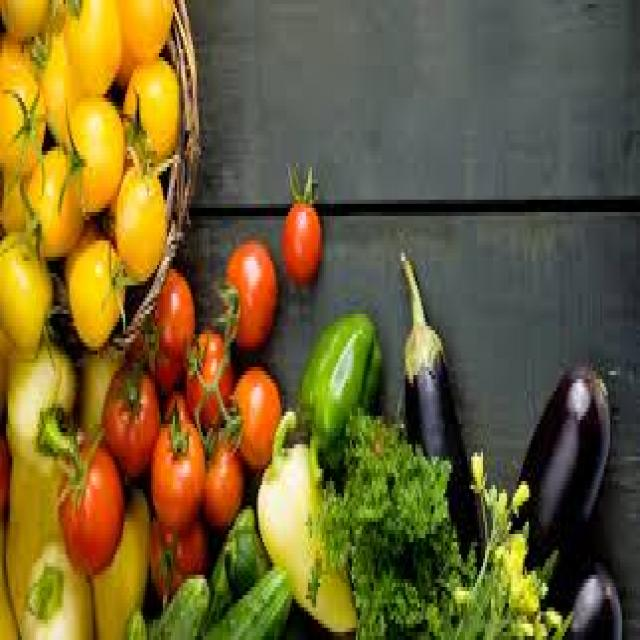organic waste: (302, 399, 473, 636), (397, 244, 483, 566), (446, 444, 572, 636), (507, 363, 608, 591), (254, 403, 356, 628), (298, 302, 382, 464), (90, 481, 149, 636), (56, 432, 121, 571), (4, 460, 60, 620), (4, 338, 74, 465), (14, 534, 89, 636), (131, 265, 193, 387), (119, 53, 185, 167), (0, 228, 54, 359), (38, 8, 89, 143), (149, 404, 203, 530), (539, 554, 620, 636), (101, 359, 159, 473), (64, 94, 121, 208), (62, 232, 121, 342), (203, 501, 254, 628), (203, 562, 290, 636), (115, 147, 165, 273), (22, 142, 77, 256), (217, 240, 274, 346), (227, 363, 278, 465), (0, 62, 44, 180), (282, 159, 322, 285), (147, 510, 203, 599), (64, 0, 119, 90), (183, 326, 230, 424), (201, 416, 242, 522), (145, 571, 207, 636), (223, 526, 268, 595), (117, 0, 171, 49), (0, 522, 20, 636), (61, 212, 95, 277), (0, 0, 50, 41), (0, 171, 32, 228), (159, 379, 189, 420), (0, 37, 38, 65), (121, 603, 145, 636), (113, 53, 135, 86), (0, 432, 8, 518)
